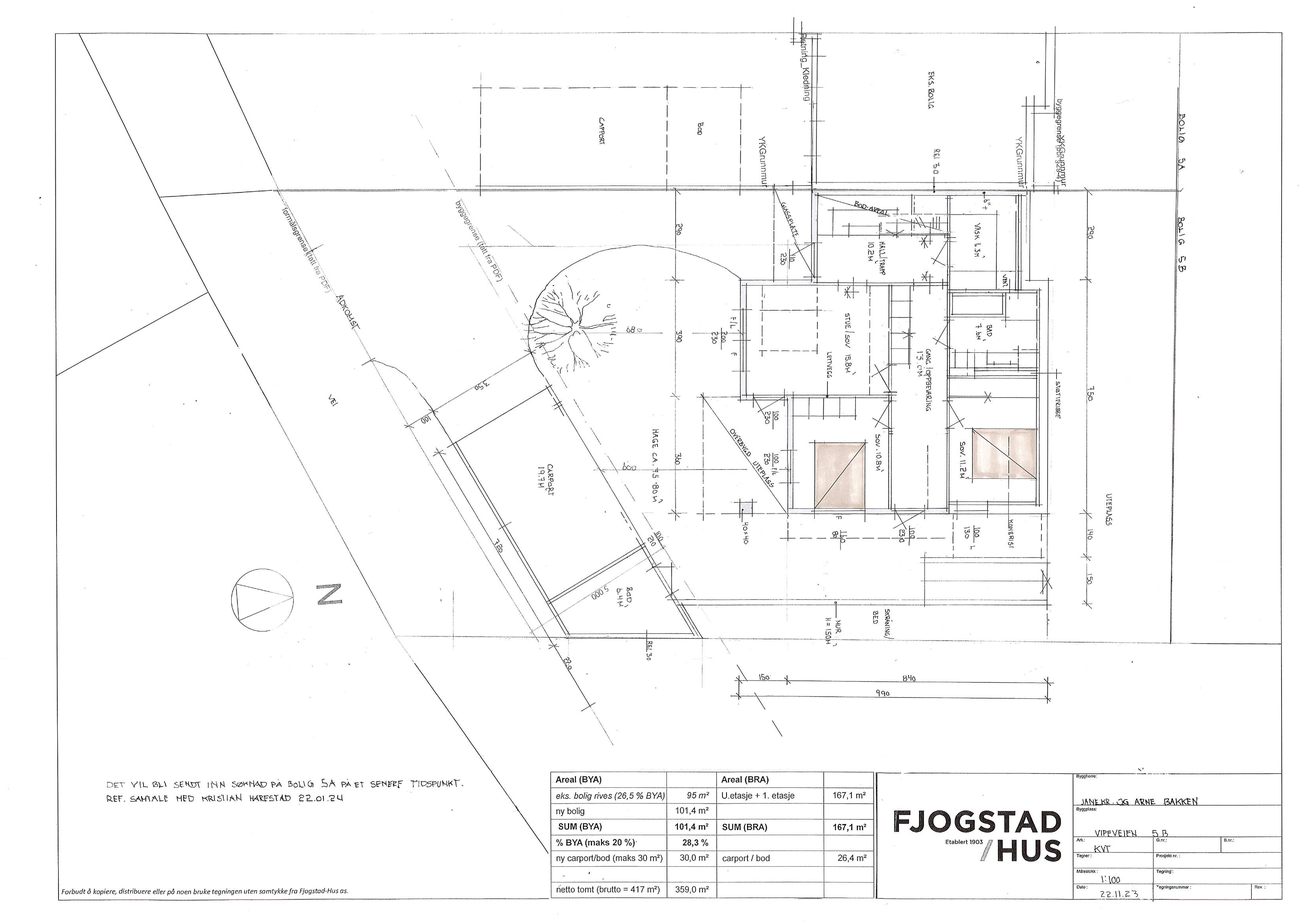plantegning: (700, 192, 1050, 526)
